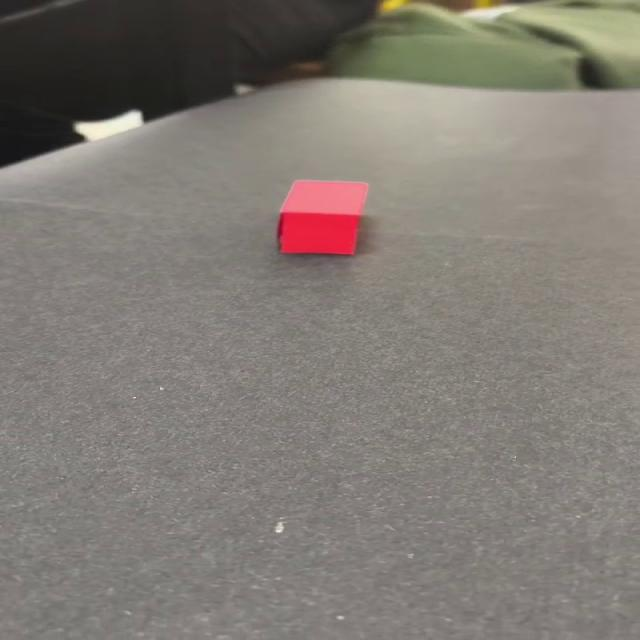red block: (276, 178, 368, 256)
